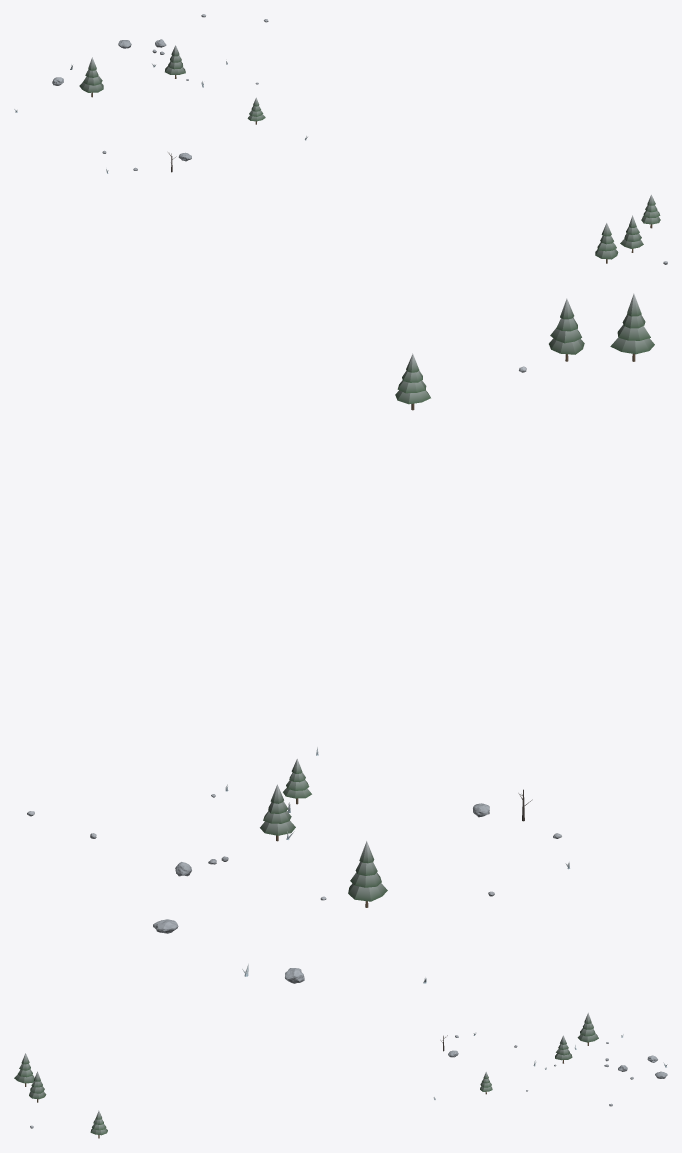
The model's file is frost_land_scatter_c19_10.glb.
3 views of the same model, one above another, from view 1: azimuth 30°, elevation 25°; view 2: azimuth 150°, elevation 25°; view 3: azimuth 270°, elevation 25° (orthographic). The views are drawn at different scales.
Visible parts, largest first — view 1: frost_land_scatter_c19_10; view 2: frost_land_scatter_c19_10; view 3: frost_land_scatter_c19_10.
Boxes of the visible parts, x1,y1,x2,y2 form: frost_land_scatter_c19_10: (14, 14, 667, 264); frost_land_scatter_c19_10: (27, 293, 654, 983); frost_land_scatter_c19_10: (14, 1013, 667, 1138).
Size of the model in its own units: 124 by 34.27 by 254.
